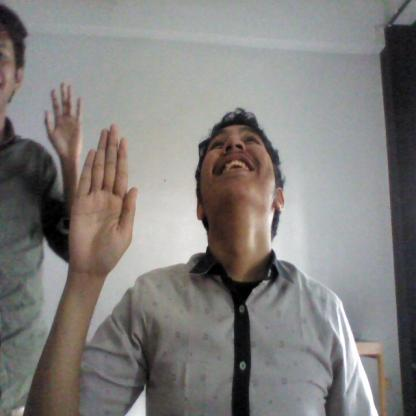Halo: (60, 118, 147, 301)
